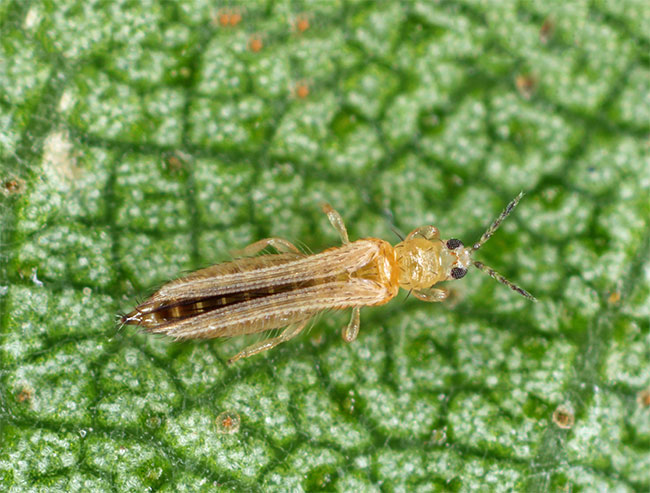Thrips: (124, 219, 549, 368)
